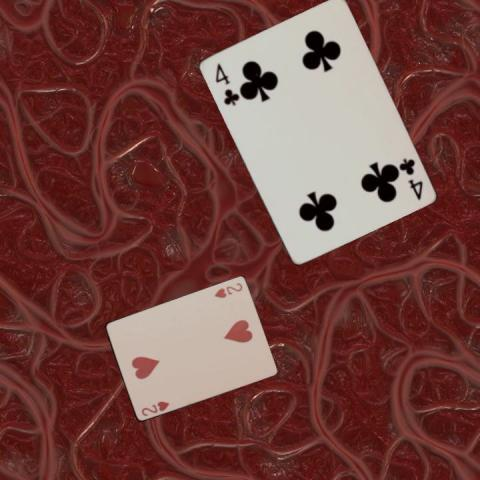2h: (211, 280, 244, 300), (138, 399, 171, 418)
4c: (211, 60, 240, 107), (395, 155, 424, 201)
